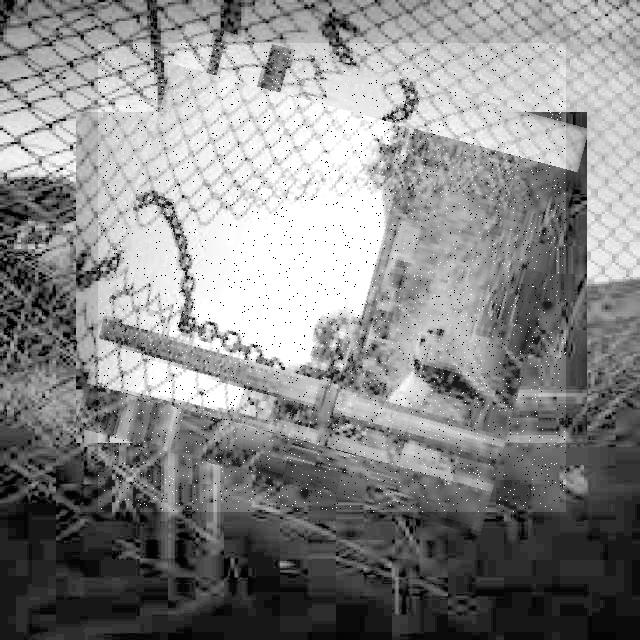anomaly-fence: (98, 43, 566, 512)
